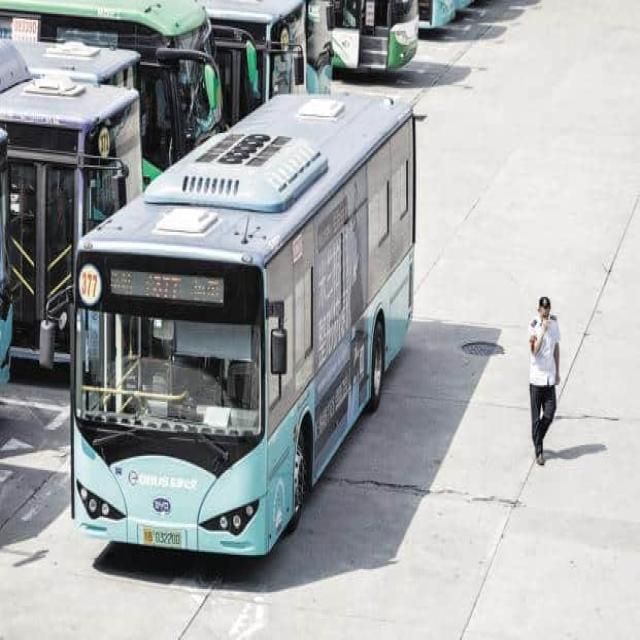bus: (71, 96, 415, 554), (0, 1, 221, 183)
